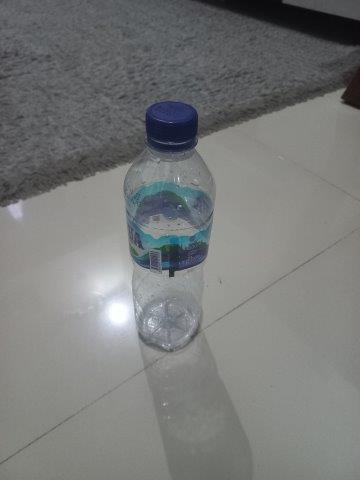botolplastik: (124, 103, 216, 350)
